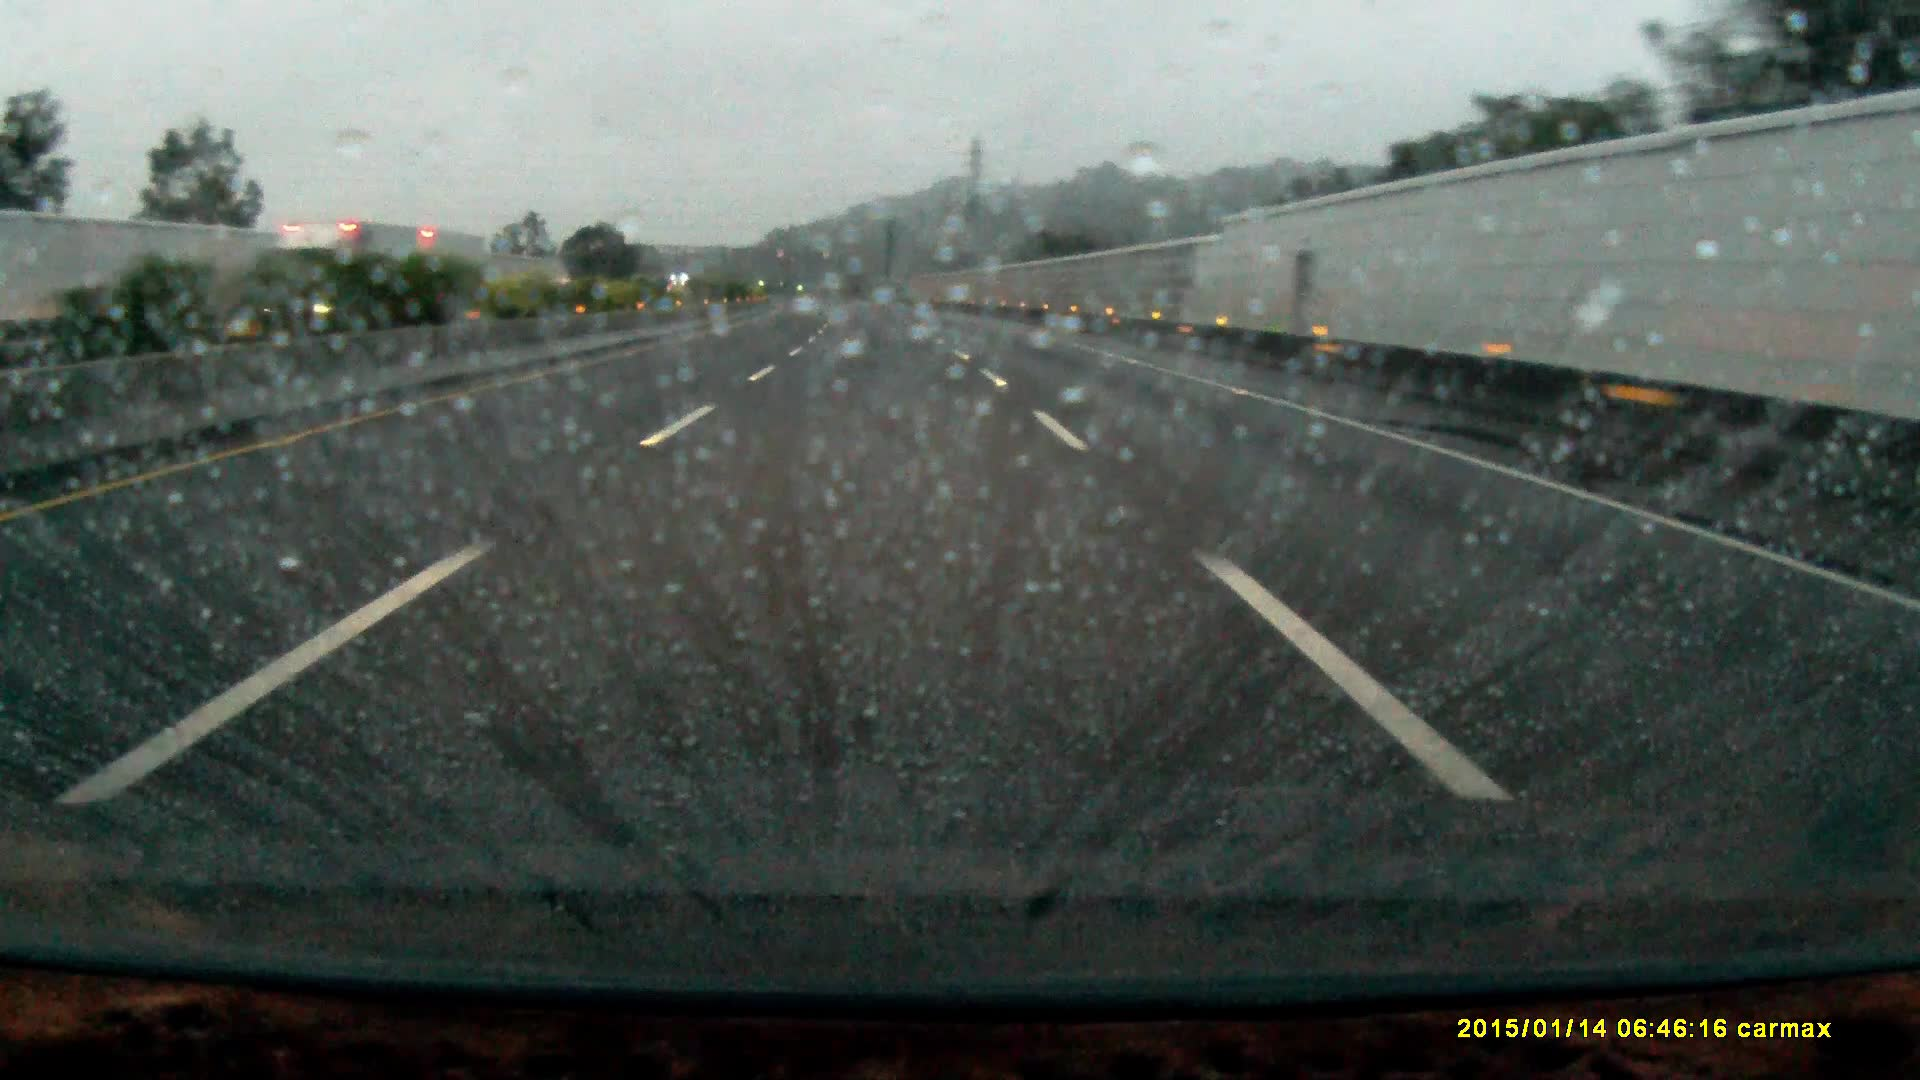vehicle: (252, 223, 489, 328)
